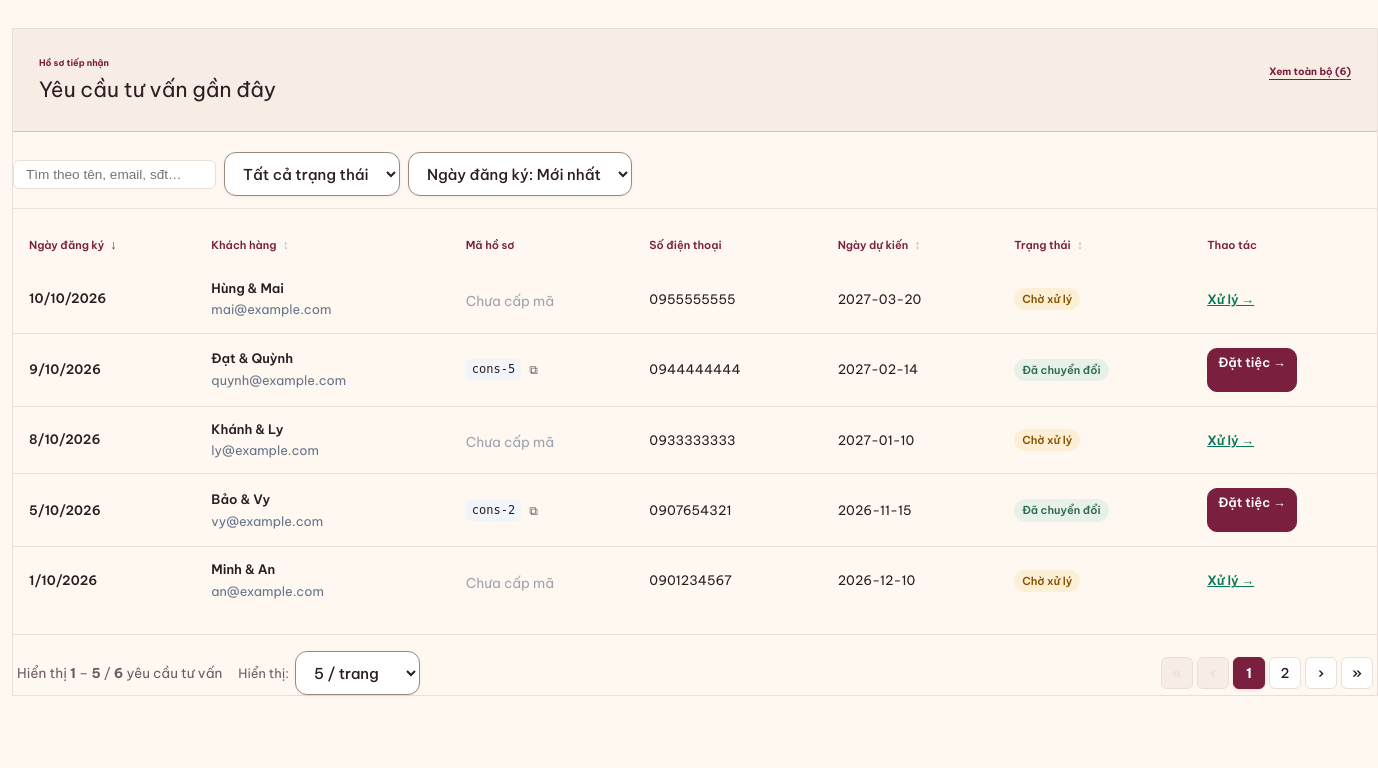
it: DashboardConsultationsSection pagination and sorting › filters consultations by search query and status
The width and height of the screenshot is (1378, 768).
Search for "Ly"
Type "ly" into the search field named "Tìm kiếm yêu cầu tư vấn" at (114, 174), box [13,160,216,188]
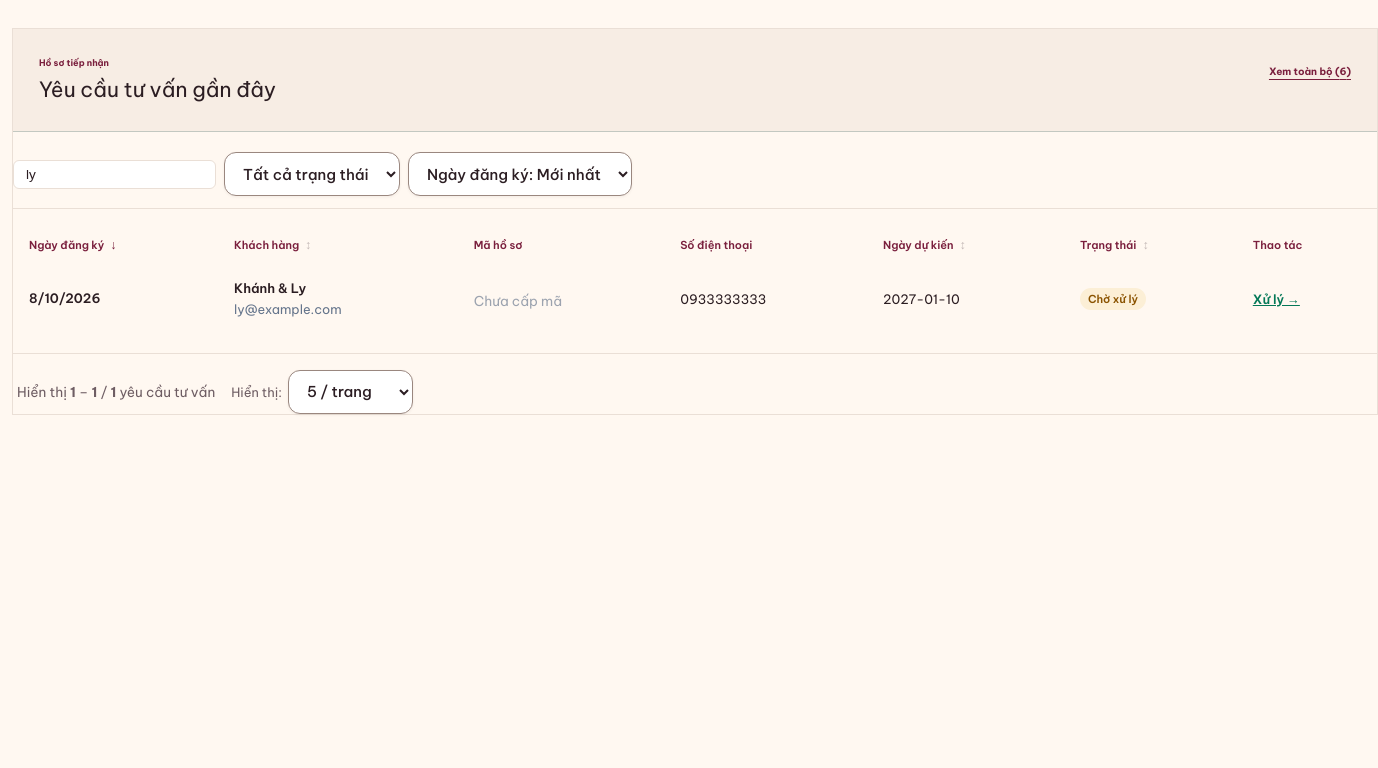
Expected: the text "Khánh & Ly" is shown, [234,280,306,296]
Expected: the text "Hùng & Mai" is gone
Reset search
Clear the search field named "Tìm kiếm yêu cầu tư vấn" at (114, 174), box [13,160,216,188]
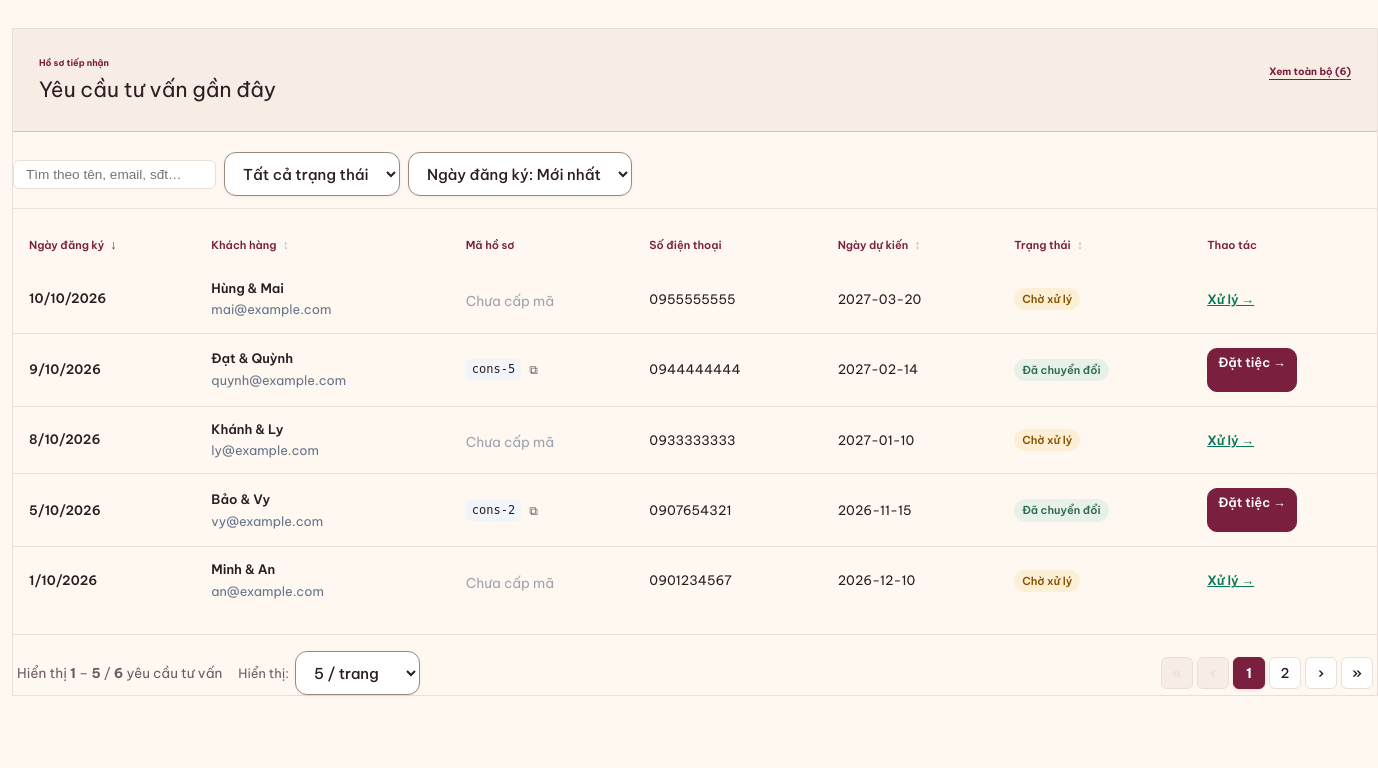
Filter by status: CONVERTED
Select "Đã chuyển đổi" in the dropdown named "Lọc theo trạng thái yêu cầu" at (312, 174), box [224,152,400,196]
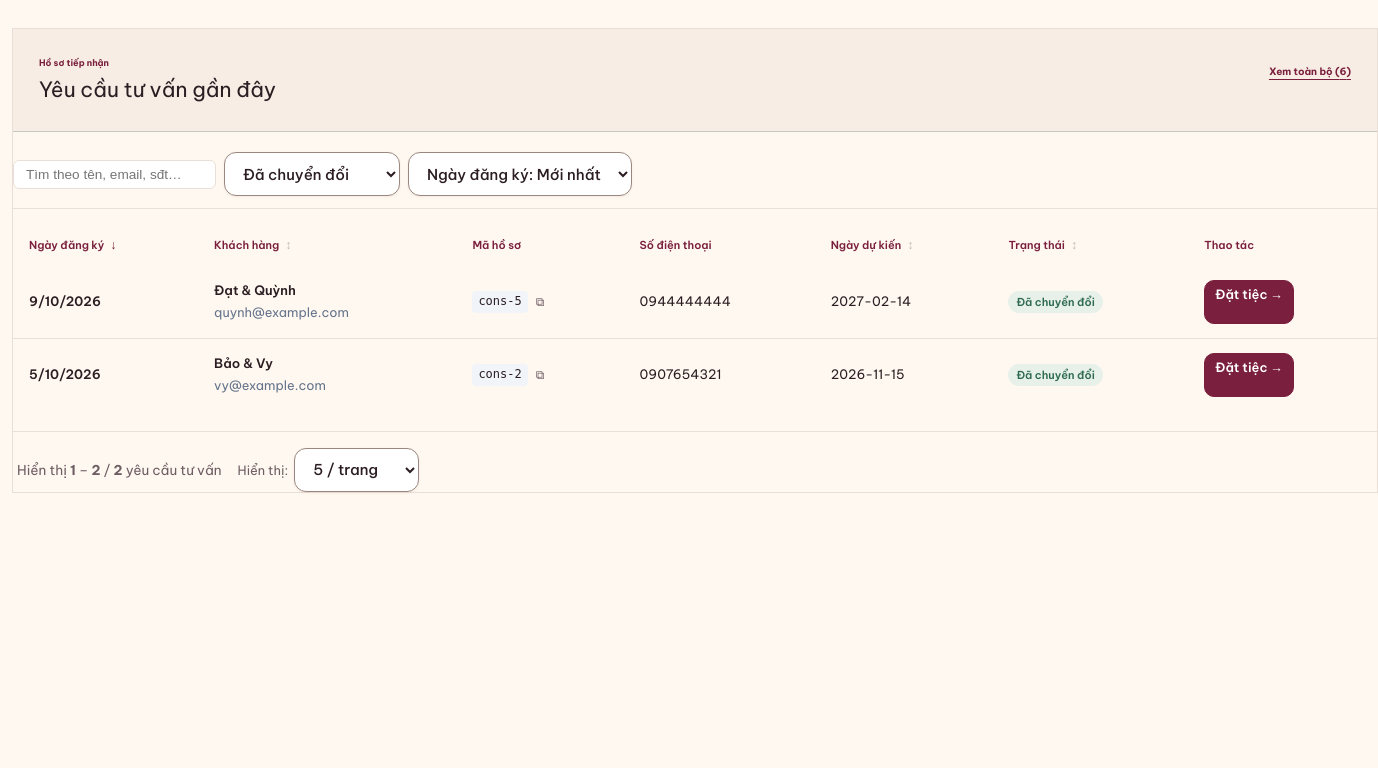
Expected: the text "Bảo & Vy" is shown, [214,355,273,371]
Expected: the text "Đạt & Quỳnh" is shown, [214,282,296,298]
Expected: the text "Minh & An" is gone
